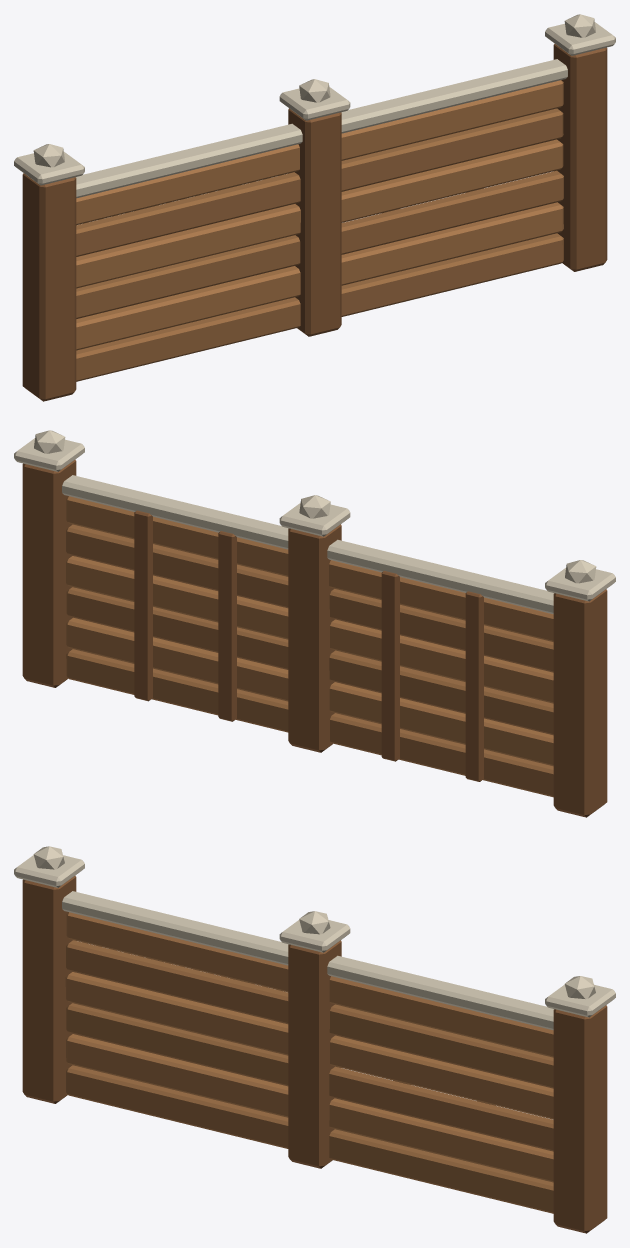
Rendered from ranch_fence_20.fbx.
3 renders of one model, top to bottom at view 1: azimuth 30°, elevation 25°; view 2: azimuth 150°, elevation 25°; view 3: azimuth 330°, elevation 25°, orthographic.
Visible parts, largest first — view 1: ranch_fence_20; view 2: ranch_fence_20; view 3: ranch_fence_20.
Part boxes in pixels (<box>): ranch_fence_20: <box>14,14,615,401</box>; ranch_fence_20: <box>14,430,615,817</box>; ranch_fence_20: <box>14,846,615,1233</box>.
Size of the model in its own units: 22 by 9.02 by 1.8.
